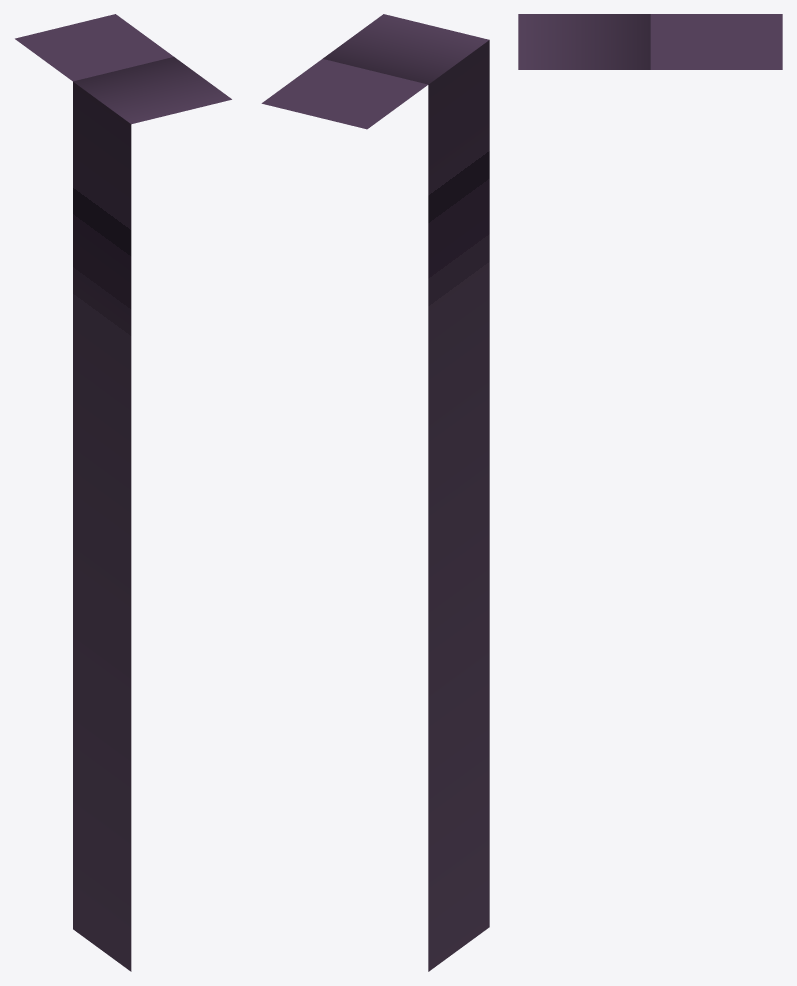
3 views of the same model, side by side, from view 1: azimuth 30°, elevation 25°; view 2: azimuth 150°, elevation 25°; view 3: azimuth 270°, elevation 25° (orthographic). The views are drawn at different scales.
Size of the model in its own units: 0.5 by 4 by 1.
Materials: 2 (2 with a texture image).
